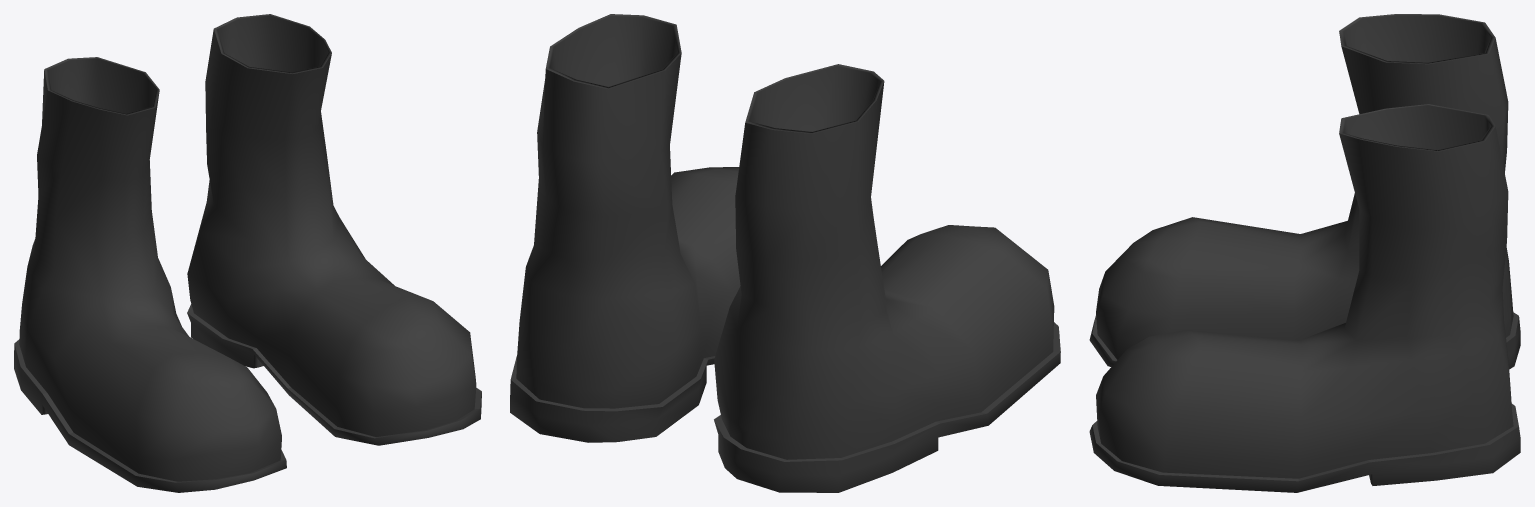
The model's file is boot.fbx.
3 views of the same model, side by side, from view 1: azimuth 30°, elevation 25°; view 2: azimuth 150°, elevation 25°; view 3: azimuth 270°, elevation 25° (orthographic). The views are drawn at different scales.
Visible parts, largest first — view 1: Boots; view 2: Boots; view 3: Boots.
Part boxes in pixels (left/top/right/bottom): Boots: left=14, top=14, right=481, bottom=492; Boots: left=510, top=14, right=1060, bottom=492; Boots: left=1089, top=14, right=1520, bottom=492.
Size of the model in its own units: 31.84 by 25.95 by 31.44.
